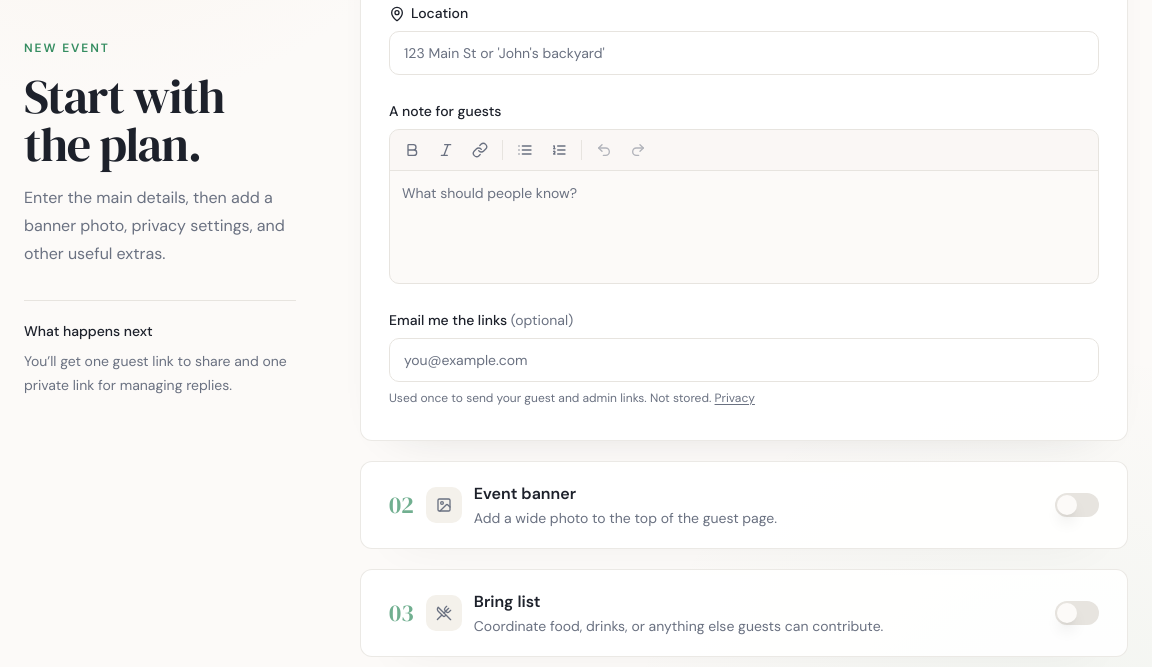
it: CreateEvent email › stops a malformed address before anything is sent
(page scrolled)
Type "not-an-address" into the field labelled "Email me the links (optional)" at point(744, 360), box left=389, top=338, right=1099, bottom=382
(page scrolled)
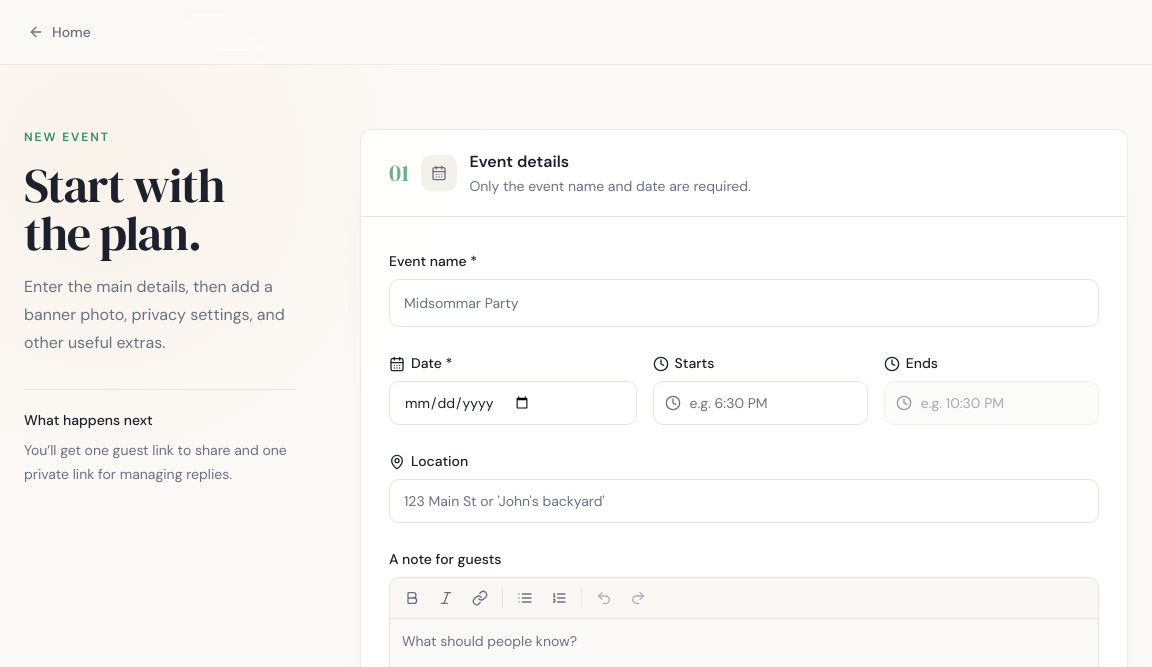
Type "Park picnic" into the field labelled "Event name *" at point(744, 303), box left=389, top=279, right=1099, bottom=327
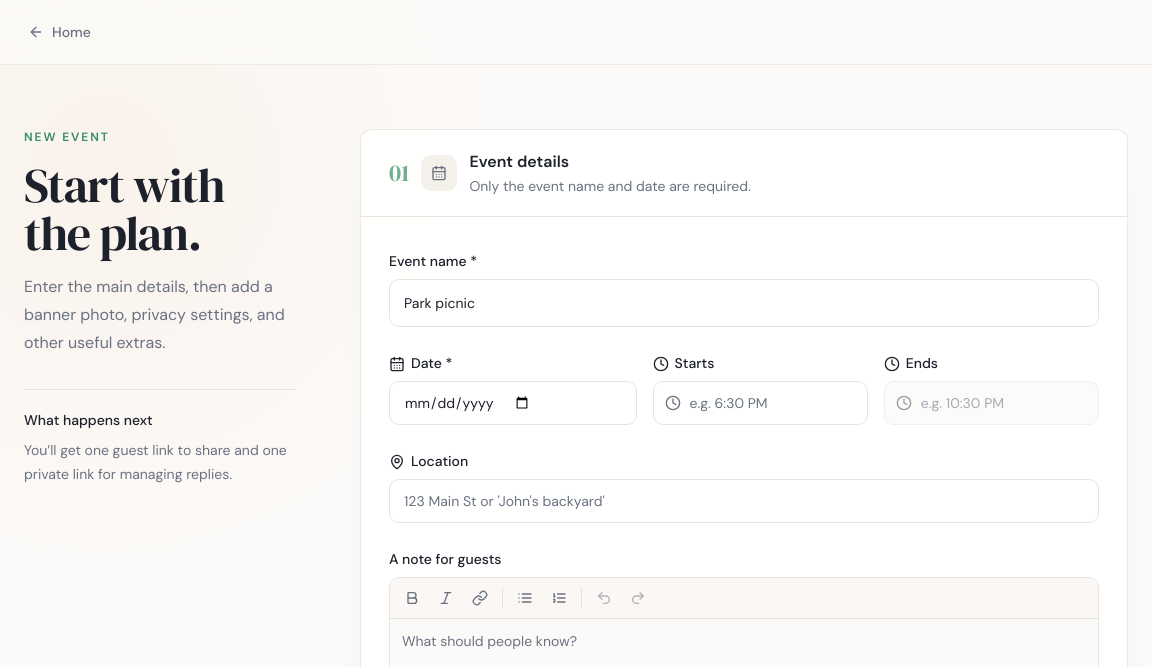
Type "2030-06-01" into the date field labelled "Date *" at point(513, 403), box left=389, top=381, right=636, bottom=425
(page scrolled)
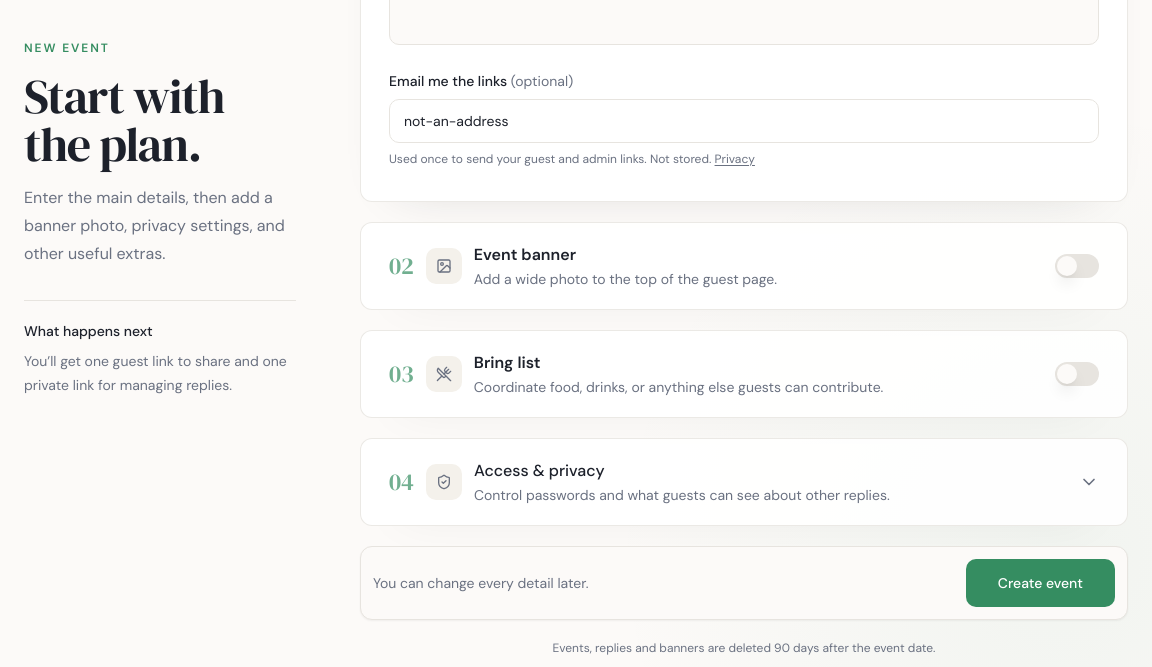
Click the button "Create event" at point(1040, 583), box left=966, top=559, right=1115, bottom=607
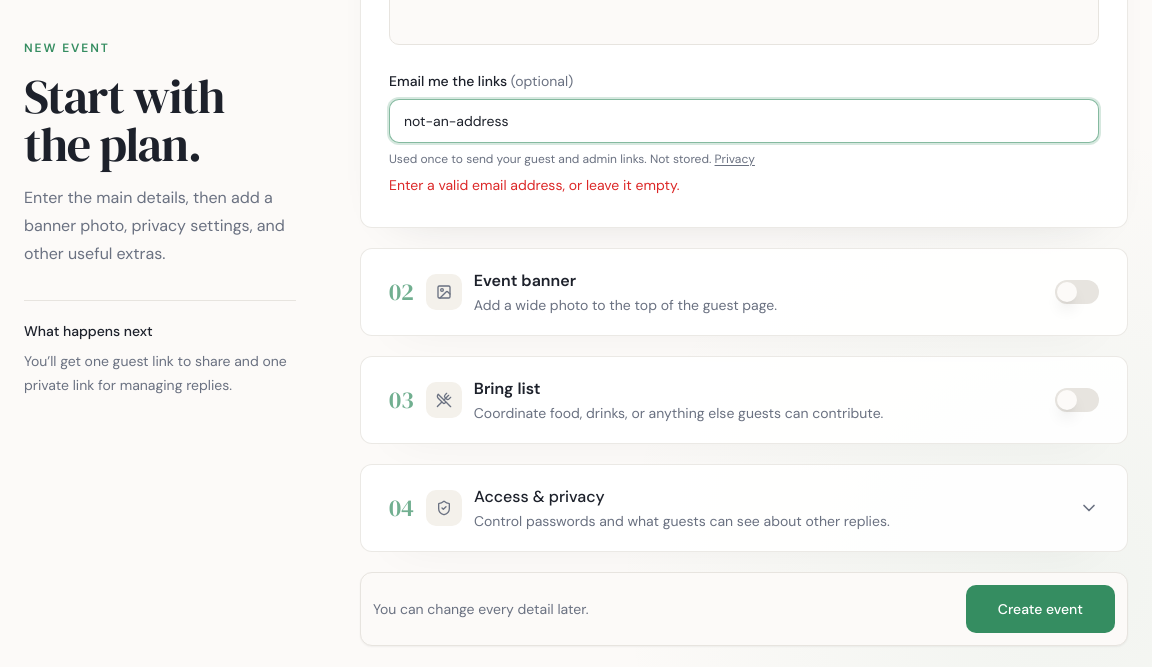
expect the text "Enter a valid email address, or leave it empty." is shown: met, box left=389, top=176, right=680, bottom=194
